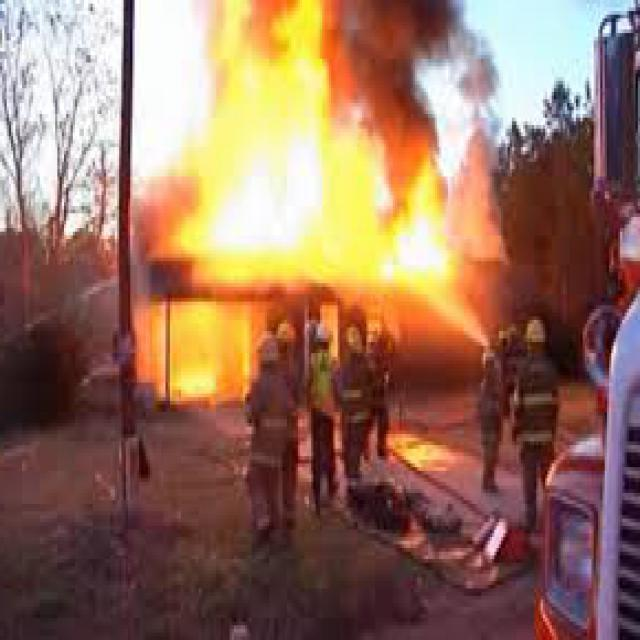Fire: (136, 17, 502, 415)
Smoke: (342, 8, 490, 215)
